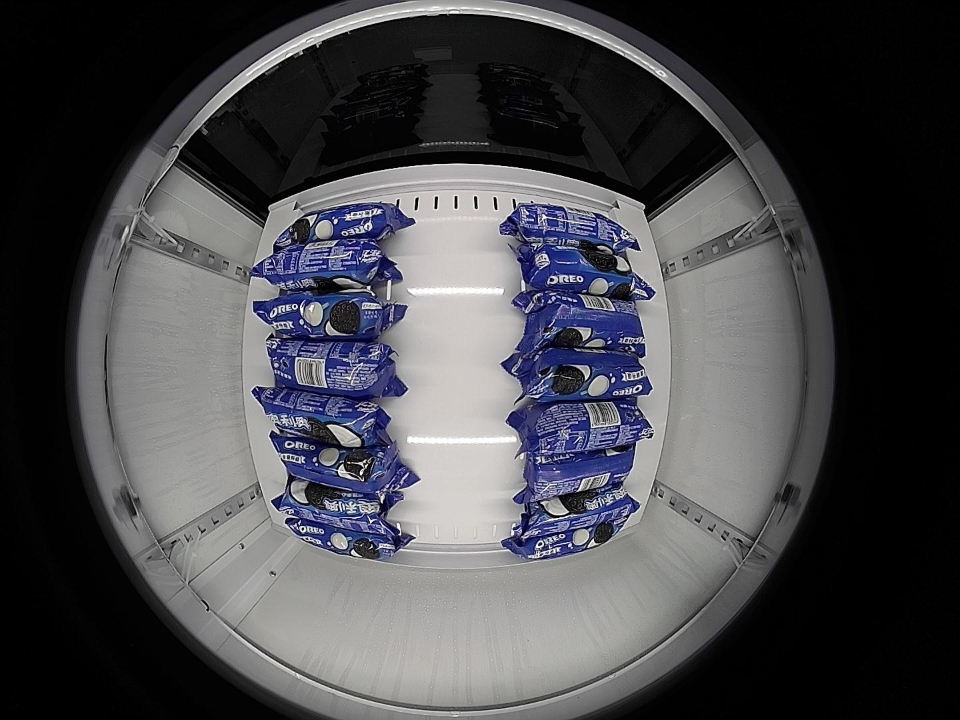aoliao: (506, 398, 653, 450), (527, 293, 648, 355), (259, 388, 382, 444), (281, 433, 392, 493), (258, 238, 386, 289), (264, 338, 386, 391), (529, 244, 645, 299), (519, 354, 653, 401), (527, 447, 640, 497), (262, 291, 382, 338), (285, 517, 417, 559), (515, 201, 632, 248), (278, 480, 395, 518), (519, 494, 634, 531), (282, 206, 404, 240), (502, 534, 618, 559)
